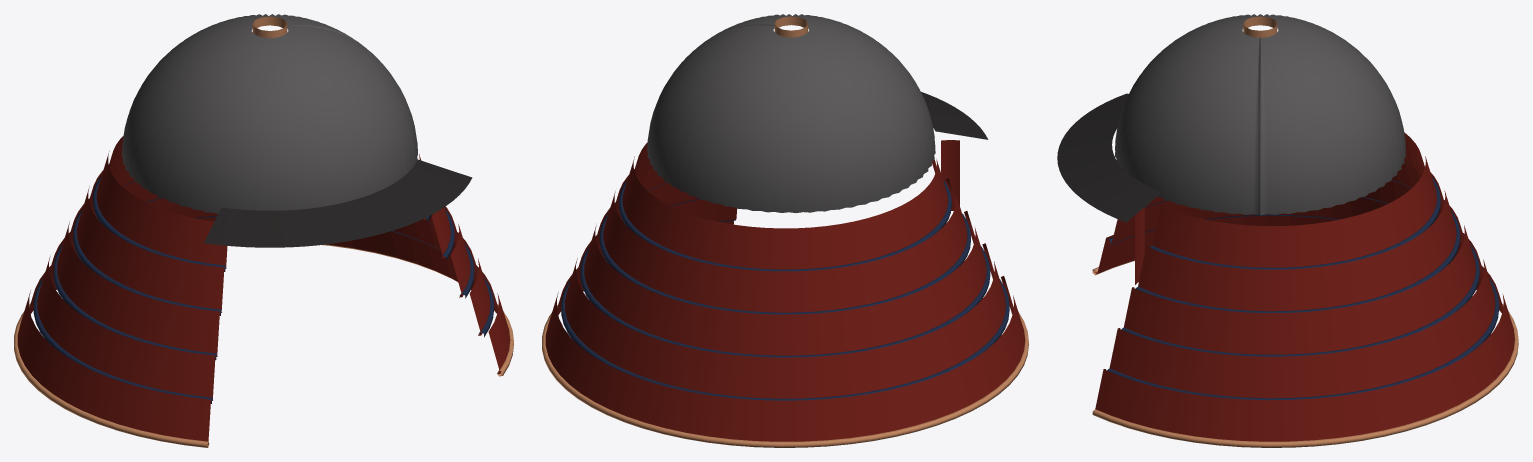
Rendered from kabuto.glb.
3 views of the same model, side by side, from view 1: azimuth 30°, elevation 25°; view 2: azimuth 150°, elevation 25°; view 3: azimuth 270°, elevation 25° (orthographic). The views are drawn at different scales.
Parts seen in each view (by area): view 1: Head; view 2: Head; view 3: Head.
Boxes of the visible parts, x1=… form: Head: x1=14, y1=14, x2=513, y2=447; Head: x1=542, y1=14, x2=1028, y2=447; Head: x1=1057, y1=14, x2=1518, y2=447.
Size of the model in its own units: 0.4044 by 0.2917 by 0.3793.
